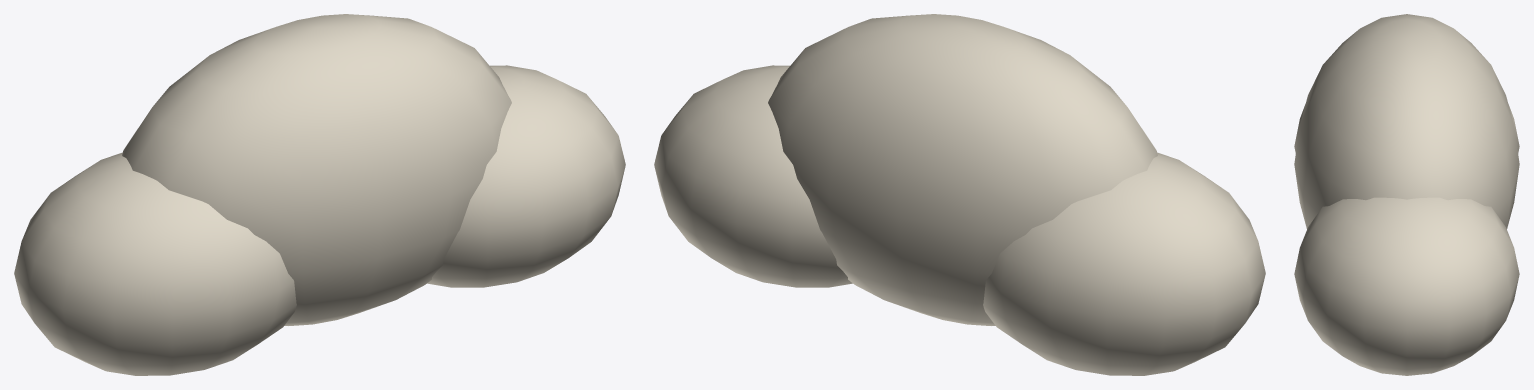
File: cloud.glb
3 renders of one model, left to right at view 1: azimuth 30°, elevation 25°; view 2: azimuth 150°, elevation 25°; view 3: azimuth 270°, elevation 25°, orthographic. The views are drawn at different scales.
Parts seen in each view (by area): view 1: body; view 2: body; view 3: body.
Boxes of the visible parts, box(x1,y1,x2,y2) form: body: box(14, 14, 625, 375); body: box(654, 14, 1265, 375); body: box(1294, 14, 1519, 375).
Size of the model in its own units: 2.52 by 1.23 by 0.96.
